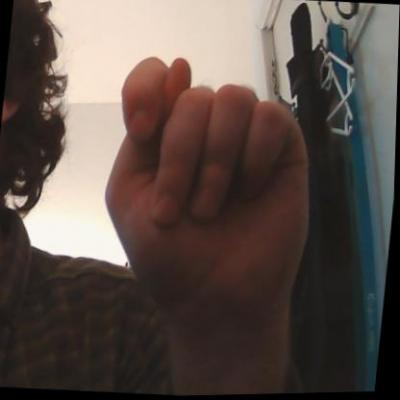hand: (96, 49, 325, 320)
